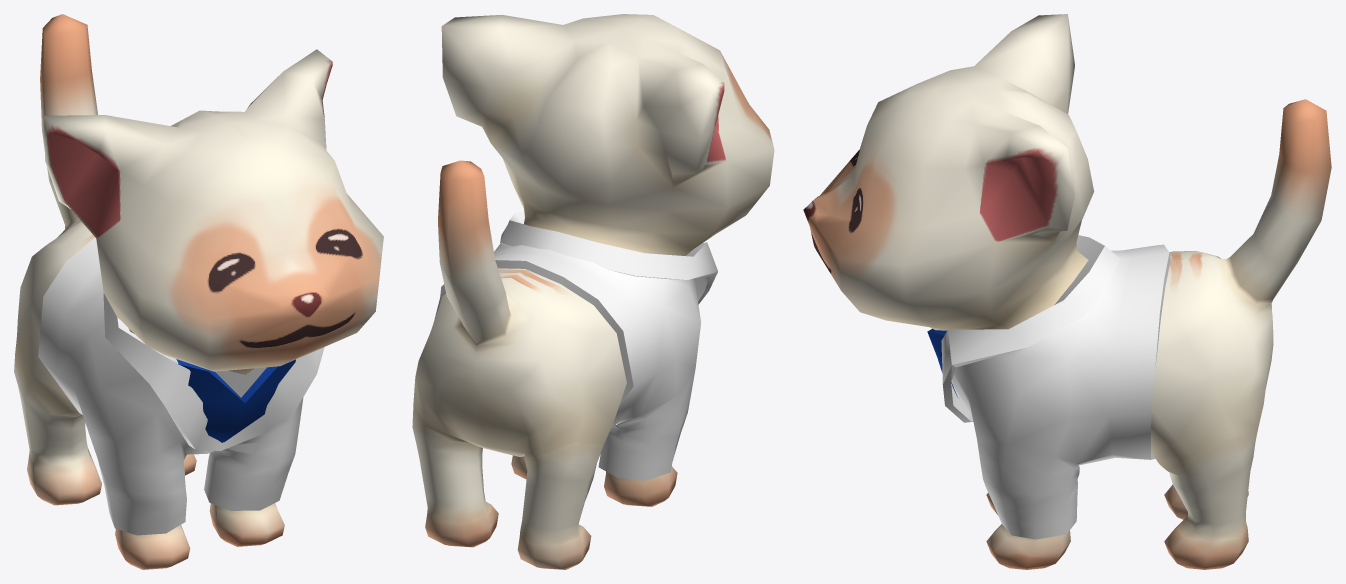
File: Doctor Cat02.fbx
3 renders of one model, left to right at view 1: azimuth 30°, elevation 25°; view 2: azimuth 150°, elevation 25°; view 3: azimuth 270°, elevation 25°, orthographic. The views are drawn at different scales.
Parts seen in each view (by area): view 1: Cat_Base001, Doctor_Cat_Scrubs; view 2: Cat_Base001, Doctor_Cat_Scrubs; view 3: Cat_Base001, Doctor_Cat_Scrubs.
Part boxes in pixels (bbox=[...]): Cat_Base001: bbox=[14, 14, 383, 569]; Doctor_Cat_Scrubs: bbox=[38, 237, 324, 535]; Cat_Base001: bbox=[412, 14, 774, 569]; Doctor_Cat_Scrubs: bbox=[440, 211, 717, 480]; Cat_Base001: bbox=[803, 14, 1331, 569]; Doctor_Cat_Scrubs: bbox=[927, 235, 1170, 539].
Size of the model in its own units: 1.75 by 2.83 by 2.68.
Materials: 3 (1 with a texture image).
